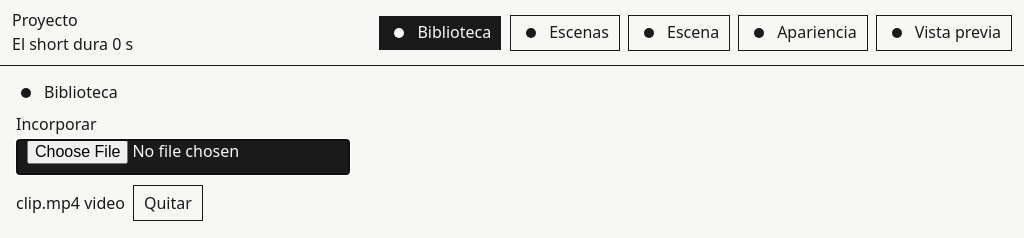
Test: incorporar un medio no crea una escena
The image size is (1024, 238).
Earlier steps of the test are not shown.
Click the button "Escenas": (565, 33) [510,15,620,51]
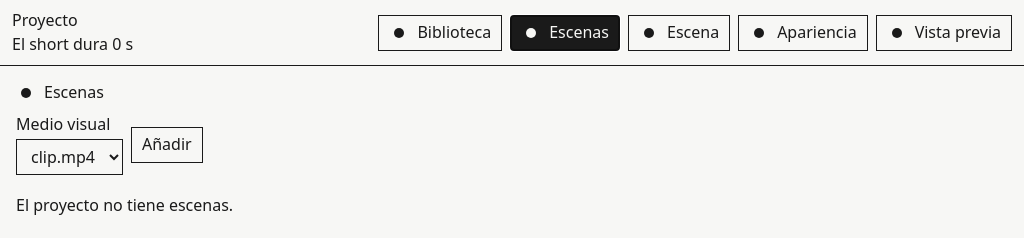
Expected: the text "El short dura 0 s" is shown, [12,34,133,55]
Expected: the text "El proyecto no tiene escenas." is shown, [16,194,233,216]
